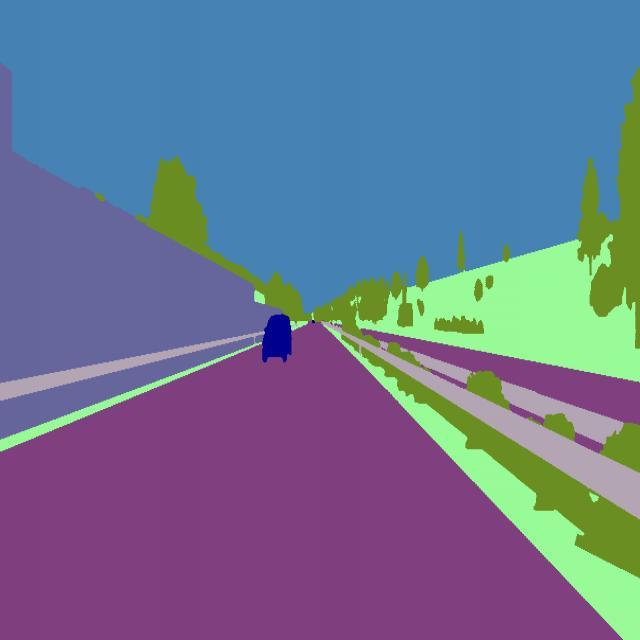safe: (258, 308, 294, 369)
